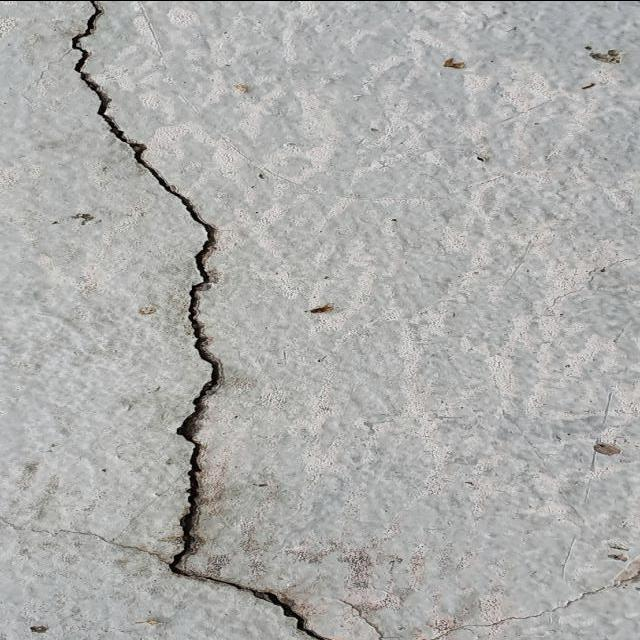SurfaceCrack: (27, 2, 250, 640)
